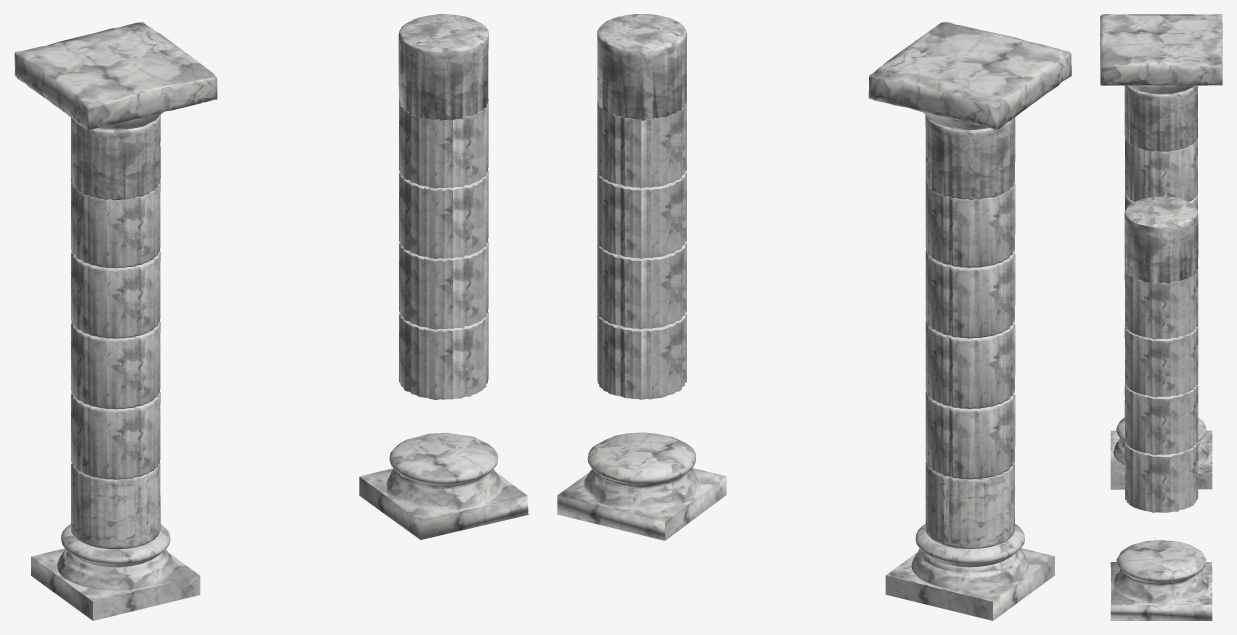
3 views of the same model, side by side, from view 1: azimuth 30°, elevation 25°; view 2: azimuth 150°, elevation 25°; view 3: azimuth 270°, elevation 25° (orthographic). The views are drawn at different scales.
Visible parts, largest first — view 1: Doric_Capital_Style_1_LOD0_Doric_Capital_Style_1_LOD_Materia, Doric_Column_Base_Style_1_LOD1_Doric_Column_Base_Style_1_LOD, Doric_Column_Base_Style_1_LOD0_Doric_Column_Base_Style_1_LOD, Doric_Shaft_Straight_Top_LOD1_Column_Shaft_Top_LOD_Material2, Shaft_Middle_Style_1_LOD4_Column_Shaft_Middle_Style_1_LOD_Ma, Shaft_Middle_Style_1_LOD3_Column_Shaft_Middle_Style_1_LOD_Ma, Shaft_Middle_Style_1_LOD1_Column_Shaft_Middle_Style_1_LOD_Ma, Shaft_Middle_Style_1_LOD5_Column_Shaft_Middle_Style_1_LOD_Ma, Shaft_Middle_Style_1_LOD2_Column_Shaft_Middle_Style_1_LOD_Ma, Shaft_Middle_Style_1_LOD0_Column_Shaft_Middle_Style_1_LOD_Ma, Column_Shaft_Bottom_LOD0, Doric_Shaft_Straight_Top_LOD0_Column_Shaft_Top_LOD_Material2 (+2 smaller); view 2: Doric_Capital_Style_1_LOD0_Doric_Capital_Style_1_LOD_Materia, Doric_Column_Base_Style_1_LOD1_Doric_Column_Base_Style_1_LOD, Doric_Column_Base_Style_1_LOD0_Doric_Column_Base_Style_1_LOD, Doric_Shaft_Straight_Top_LOD1_Column_Shaft_Top_LOD_Material2, Shaft_Middle_Style_1_LOD0_Column_Shaft_Middle_Style_1_LOD_Ma, Shaft_Middle_Style_1_LOD5_Column_Shaft_Middle_Style_1_LOD_Ma, Shaft_Middle_Style_1_LOD3_Column_Shaft_Middle_Style_1_LOD_Ma, Shaft_Middle_Style_1_LOD1_Column_Shaft_Middle_Style_1_LOD_Ma, Shaft_Middle_Style_1_LOD4_Column_Shaft_Middle_Style_1_LOD_Ma, Shaft_Middle_Style_1_LOD2_Column_Shaft_Middle_Style_1_LOD_Ma, Column_Shaft_Bottom_LOD0, Doric_Shaft_Straight_Top_LOD0_Column_Shaft_Top_LOD_Material2 (+2 smaller); view 3: Doric_Capital_Style_1_LOD0_Doric_Capital_Style_1_LOD_Materia, Doric_Column_Base_Style_1_LOD1_Doric_Column_Base_Style_1_LOD, Doric_Shaft_Straight_Top_LOD1_Column_Shaft_Top_LOD_Material2, Shaft_Middle_Style_1_LOD1_Column_Shaft_Middle_Style_1_LOD_Ma, Shaft_Middle_Style_1_LOD2_Column_Shaft_Middle_Style_1_LOD_Ma, Shaft_Middle_Style_1_LOD4_Column_Shaft_Middle_Style_1_LOD_Ma, Doric_Shaft_Straight_Top_LOD0_Column_Shaft_Top_LOD_Material2, Shaft_Middle_Style_1_LOD6_Column_Shaft_Middle_Style_1_LOD_Ma, Shaft_Middle_Style_1_LOD7_Column_Shaft_Middle_Style_1_LOD_Ma, Doric_Column_Base_Style_1_LOD0_Doric_Column_Base_Style_1_LOD.
Boxes of the visible parts, x1=… form: Doric_Capital_Style_1_LOD0_Doric_Capital_Style_1_LOD_Materia: x1=14, y1=22, x2=217, y2=130; Doric_Column_Base_Style_1_LOD1_Doric_Column_Base_Style_1_LOD: x1=359, y1=433, x2=528, y2=539; Doric_Column_Base_Style_1_LOD0_Doric_Column_Base_Style_1_LOD: x1=31, y1=524, x2=200, y2=620; Doric_Shaft_Straight_Top_LOD1_Column_Shaft_Top_LOD_Material2: x1=398, y1=14, x2=488, y2=120; Shaft_Middle_Style_1_LOD4_Column_Shaft_Middle_Style_1_LOD_Ma: x1=399, y1=170, x2=488, y2=258; Shaft_Middle_Style_1_LOD3_Column_Shaft_Middle_Style_1_LOD_Ma: x1=71, y1=321, x2=160, y2=409; Shaft_Middle_Style_1_LOD1_Column_Shaft_Middle_Style_1_LOD_Ma: x1=399, y1=312, x2=488, y2=399; Shaft_Middle_Style_1_LOD5_Column_Shaft_Middle_Style_1_LOD_Ma: x1=71, y1=251, x2=160, y2=338; Shaft_Middle_Style_1_LOD2_Column_Shaft_Middle_Style_1_LOD_Ma: x1=399, y1=241, x2=488, y2=329; Shaft_Middle_Style_1_LOD0_Column_Shaft_Middle_Style_1_LOD_Ma: x1=71, y1=392, x2=160, y2=479; Column_Shaft_Bottom_LOD0: x1=71, y1=462, x2=160, y2=549; Doric_Shaft_Straight_Top_LOD0_Column_Shaft_Top_LOD_Material2: x1=71, y1=115, x2=160, y2=200; Doric_Capital_Style_1_LOD0_Doric_Capital_Style_1_LOD_Materia: x1=868, y1=22, x2=1071, y2=130; Doric_Column_Base_Style_1_LOD1_Doric_Column_Base_Style_1_LOD: x1=557, y1=432, x2=726, y2=540; Doric_Column_Base_Style_1_LOD0_Doric_Column_Base_Style_1_LOD: x1=885, y1=524, x2=1055, y2=620; Doric_Shaft_Straight_Top_LOD1_Column_Shaft_Top_LOD_Material2: x1=597, y1=14, x2=686, y2=120; Shaft_Middle_Style_1_LOD0_Column_Shaft_Middle_Style_1_LOD_Ma: x1=925, y1=391, x2=1015, y2=479; Shaft_Middle_Style_1_LOD5_Column_Shaft_Middle_Style_1_LOD_Ma: x1=925, y1=250, x2=1015, y2=338; Shaft_Middle_Style_1_LOD3_Column_Shaft_Middle_Style_1_LOD_Ma: x1=925, y1=321, x2=1015, y2=408; Shaft_Middle_Style_1_LOD1_Column_Shaft_Middle_Style_1_LOD_Ma: x1=597, y1=311, x2=686, y2=399; Shaft_Middle_Style_1_LOD4_Column_Shaft_Middle_Style_1_LOD_Ma: x1=597, y1=169, x2=686, y2=258; Shaft_Middle_Style_1_LOD2_Column_Shaft_Middle_Style_1_LOD_Ma: x1=597, y1=240, x2=686, y2=329; Column_Shaft_Bottom_LOD0: x1=925, y1=462, x2=1015, y2=548; Doric_Shaft_Straight_Top_LOD0_Column_Shaft_Top_LOD_Material2: x1=925, y1=115, x2=1015, y2=199; Doric_Capital_Style_1_LOD0_Doric_Capital_Style_1_LOD_Materia: x1=1100, y1=14, x2=1222, y2=94; Doric_Column_Base_Style_1_LOD1_Doric_Column_Base_Style_1_LOD: x1=1110, y1=540, x2=1212, y2=620; Doric_Shaft_Straight_Top_LOD1_Column_Shaft_Top_LOD_Material2: x1=1124, y1=196, x2=1198, y2=283; Shaft_Middle_Style_1_LOD1_Column_Shaft_Middle_Style_1_LOD_Ma: x1=1124, y1=441, x2=1198, y2=512; Shaft_Middle_Style_1_LOD2_Column_Shaft_Middle_Style_1_LOD_Ma: x1=1124, y1=383, x2=1198, y2=454; Shaft_Middle_Style_1_LOD4_Column_Shaft_Middle_Style_1_LOD_Ma: x1=1124, y1=325, x2=1198, y2=396; Doric_Shaft_Straight_Top_LOD0_Column_Shaft_Top_LOD_Material2: x1=1124, y1=85, x2=1197, y2=151; Shaft_Middle_Style_1_LOD6_Column_Shaft_Middle_Style_1_LOD_Ma: x1=1124, y1=266, x2=1198, y2=339; Shaft_Middle_Style_1_LOD7_Column_Shaft_Middle_Style_1_LOD_Ma: x1=1125, y1=138, x2=1197, y2=201; Doric_Column_Base_Style_1_LOD0_Doric_Column_Base_Style_1_LOD: x1=1110, y1=417, x2=1212, y2=489.
Size of what is drawn, in the model's own units: 136 by 152 by 39.32.
Materials: 5 (5 with a texture image).
